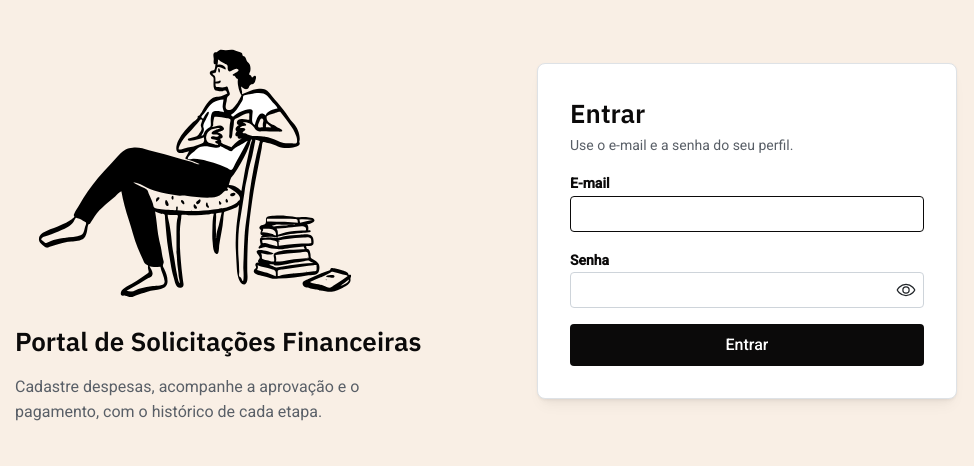
LoginPage › TOO_MANY_REQUESTS shows the Retry-After wait time
Type "solicitante@gex.test" into the field labelled "E-mail".
click(747, 214); type("solicitante@gex.test")  # box [570, 196, 924, 232]
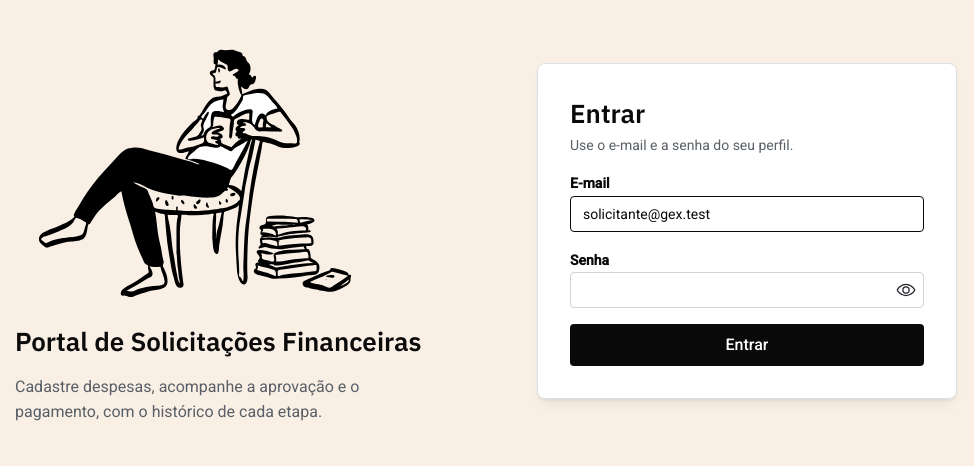
Type "qualquer" into the password field labelled "Senha".
click(747, 290); type("qualquer")  # box [571, 274, 923, 308]
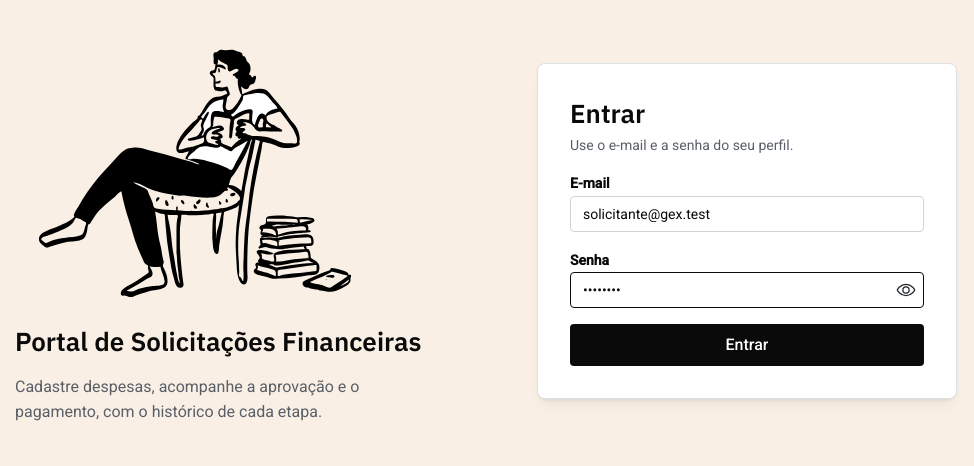
Click the button "Entrar".
click(747, 346)  # box [570, 324, 924, 366]
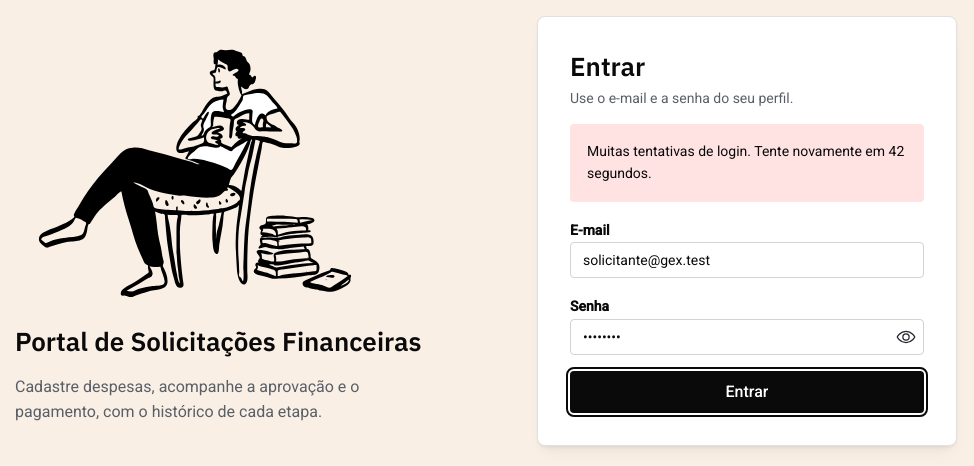
Expected: the message reads "Muitas tentativas de login. Tente novamente em 42 segundos.", [587, 143, 904, 181]
